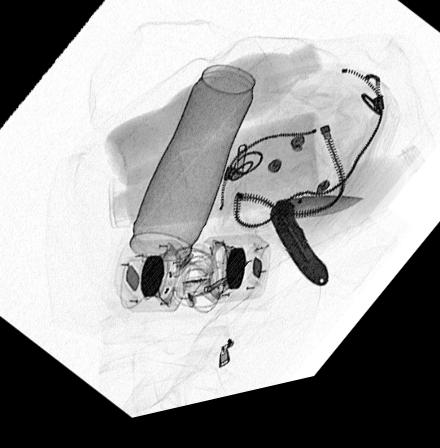Knife: (269, 209, 367, 303)
